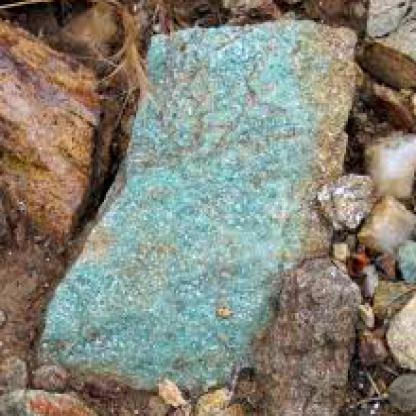Metamorphic_Quartize: (25, 4, 368, 406)
